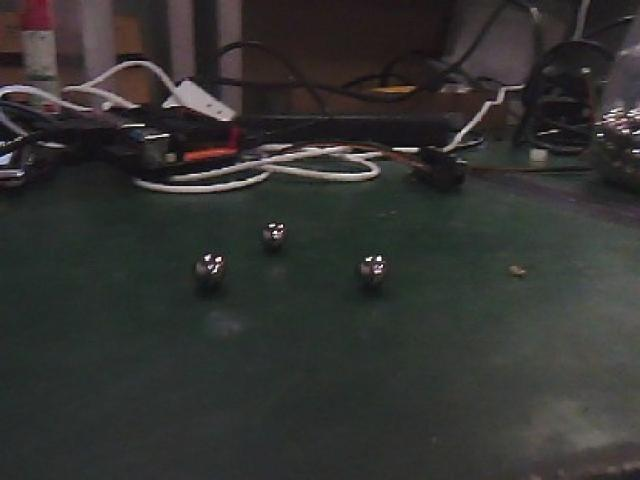steel-ball: (354, 238, 404, 294), (183, 235, 228, 291), (246, 201, 292, 254)
